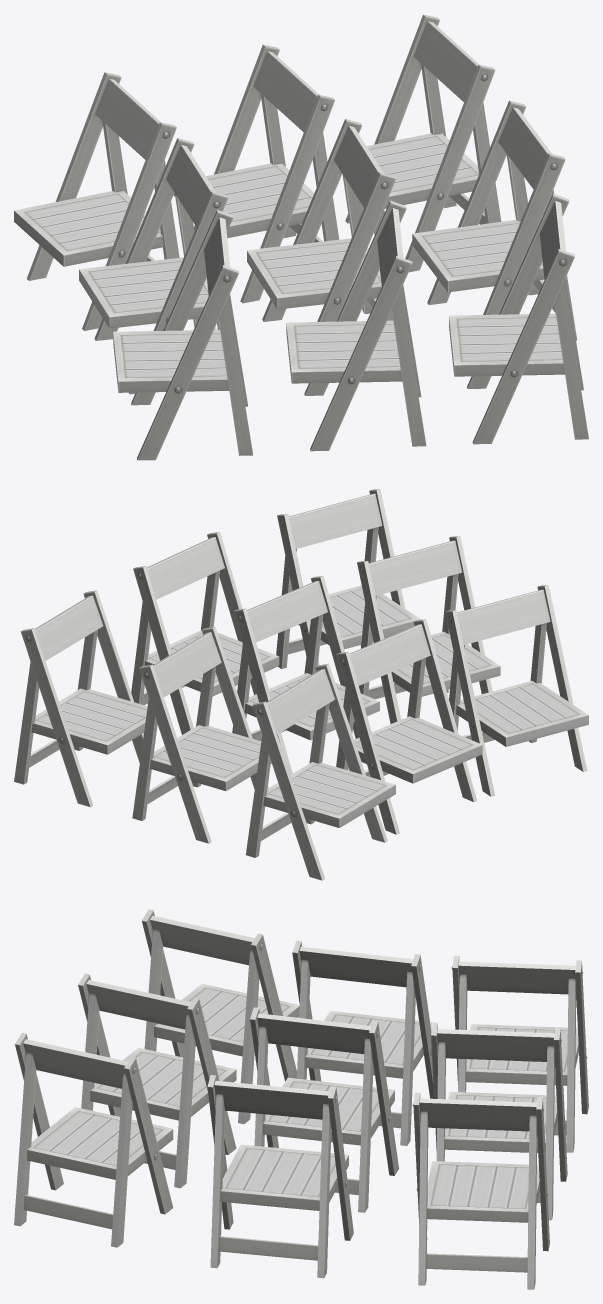
File: my_ariussummer_01_seat_03.glb
The picture shows the model from 3 angles, top to bottom: view 1: azimuth 30°, elevation 25°; view 2: azimuth 150°, elevation 25°; view 3: azimuth 270°, elevation 25°; orthographic projection. The views are drawn at different scales.
Parts seen in each view (by area): view 1: my_ariussummer_01_seat_03; view 2: my_ariussummer_01_seat_03; view 3: my_ariussummer_01_seat_03.
Boxes of the visible parts, x1,y1,x2,y2 form: my_ariussummer_01_seat_03: [14, 14, 588, 460]; my_ariussummer_01_seat_03: [14, 489, 588, 880]; my_ariussummer_01_seat_03: [14, 909, 588, 1289].
Bounding box in the file's own units: 0.0171 × 0.0061 × 0.0176.
1 material, 1 textured.
